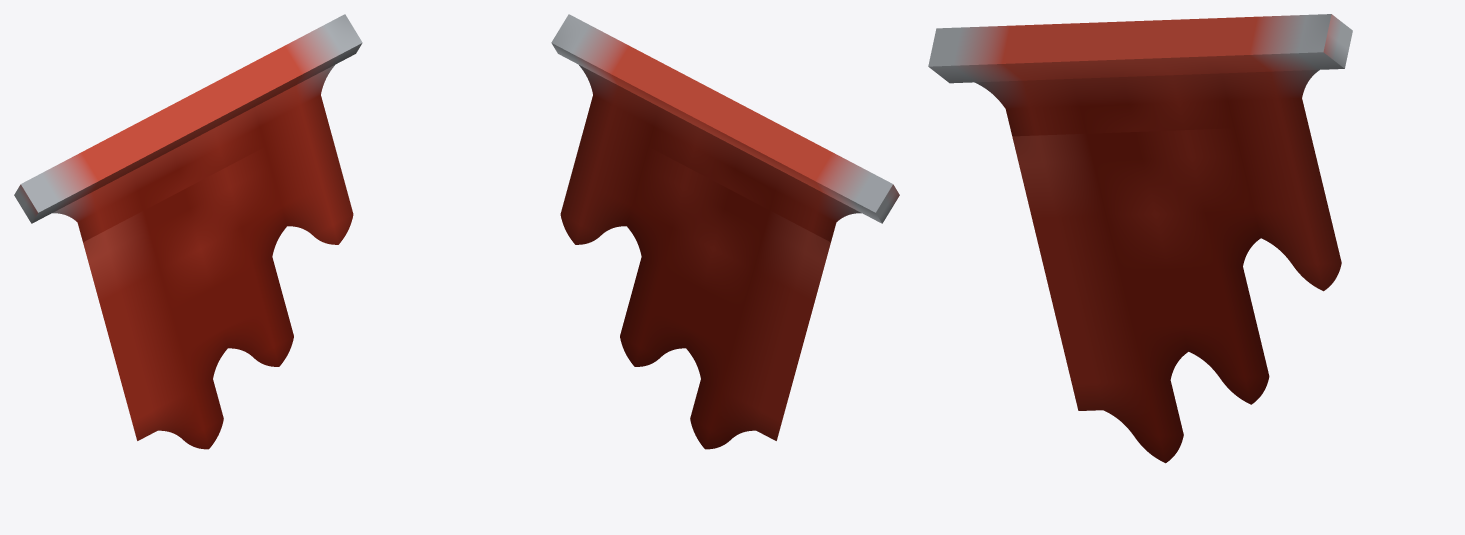
The model's file is banner_f.obj.
The picture shows the model from 3 angles, left to right: view 1: azimuth 30°, elevation 25°; view 2: azimuth 150°, elevation 25°; view 3: azimuth 330°, elevation 25°; orthographic projection. The views are drawn at different scales.
Parts seen in each view (by area): view 1: Default; view 2: Default; view 3: Default.
Part boxes in pixels (x1,y1,x2,y2): Default: (14,14,362,449); Default: (551,14,899,449); Default: (928,14,1352,463).
Bounding box in the file's own units: 1.26 × 1.31 × 0.125.
